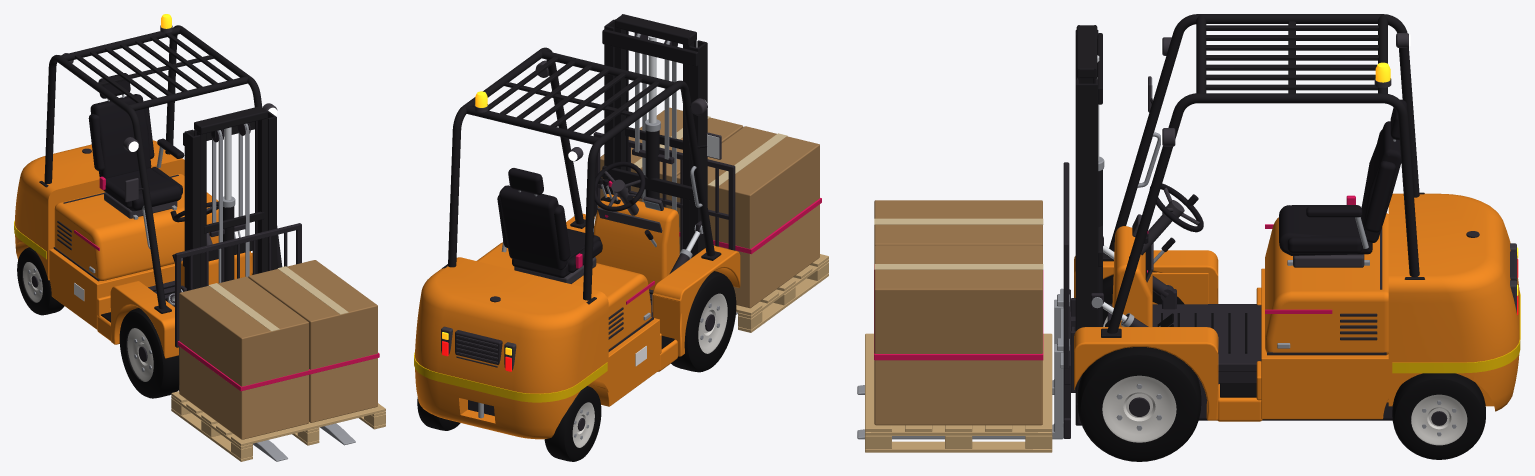
File: counter.glb
3 views of the same model, side by side, from view 1: azimuth 30°, elevation 25°; view 2: azimuth 150°, elevation 25°; view 3: azimuth 270°, elevation 25° (orthographic). The views are drawn at different scales.
Parts seen in each view (by area): view 1: frame, pallet_top, mast_inner_rail, car_bar_lo, w_front, w_rear, w_front_rim, chain_f.001, chain_f, w_rear_rim, chain_r.001, chain_r; view 2: frame, pallet_top, mast_inner_rail, w_front, car_bar_lo, w_rear, w_front_rim, w_rear_rim, chain_f, w_rear.001, chain_r; view 3: frame, pallet_top, w_front.001, w_rear.001, car_bar_lo, w_front_rim.001, w_rear_rim.001, mast_inner_rail.
Part boxes in pixels (x1,y1,x2,y2): frame: [14, 14, 282, 358]; pallet_top: [171, 260, 385, 461]; mast_inner_rail: [194, 106, 267, 287]; car_bar_lo: [175, 223, 355, 461]; w_front: [119, 308, 179, 398]; w_rear: [17, 247, 64, 315]; w_front_rim: [127, 328, 153, 381]; chain_f.001: [245, 130, 249, 277]; chain_f: [218, 136, 222, 282]; w_rear_rim: [23, 262, 42, 302]; chain_r.001: [238, 132, 242, 216]; chain_r: [212, 138, 216, 223]; frame: [414, 19, 740, 439]; pallet_top: [600, 107, 828, 332]; mast_inner_rail: [614, 14, 696, 249]; w_front: [671, 271, 736, 372]; car_bar_lo: [593, 132, 737, 314]; w_rear: [544, 386, 601, 461]; w_front_rim: [698, 293, 727, 353]; w_rear_rim: [572, 402, 594, 447]; chain_f: [672, 61, 676, 210]; w_rear.001: [417, 397, 460, 430]; chain_r: [664, 59, 669, 159]; frame: [1074, 14, 1520, 425]; pallet_top: [865, 200, 1052, 452]; w_front.001: [1077, 347, 1201, 461]; w_rear.001: [1392, 373, 1485, 459]; car_bar_lo: [857, 162, 1075, 439]; w_front_rim.001: [1102, 375, 1176, 442]; w_rear_rim.001: [1411, 394, 1467, 445]; mast_inner_rail: [1076, 25, 1099, 160].
Bounding box in the file's own units: 1.3 × 2.27 × 3.54.
